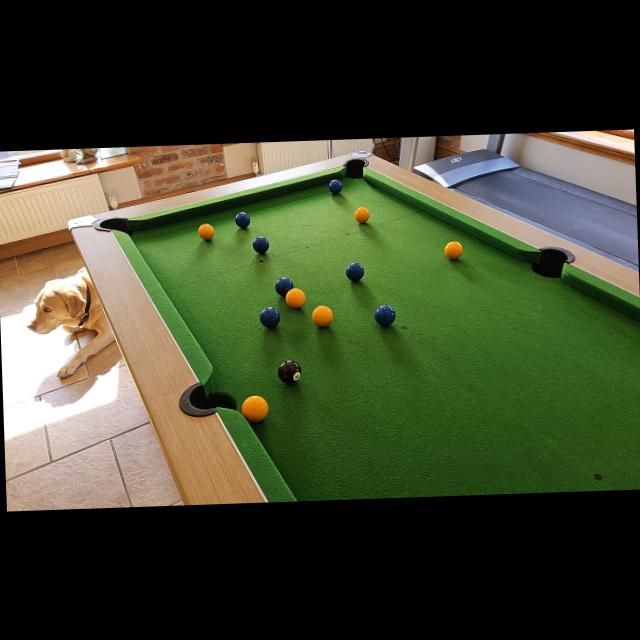Ball: (242, 394, 268, 423), (278, 360, 302, 384), (311, 305, 333, 327), (258, 307, 280, 329), (274, 276, 294, 298), (374, 305, 394, 327), (285, 288, 305, 308), (345, 262, 364, 282), (444, 240, 462, 260), (198, 223, 215, 241), (353, 206, 370, 223), (235, 211, 250, 228), (329, 180, 342, 193)
